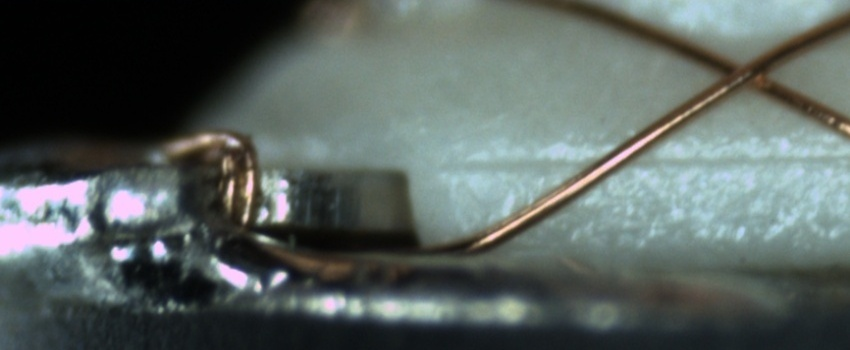CL: (694, 36, 797, 104)
DL: (434, 129, 849, 193)
TE: (151, 126, 267, 233)
